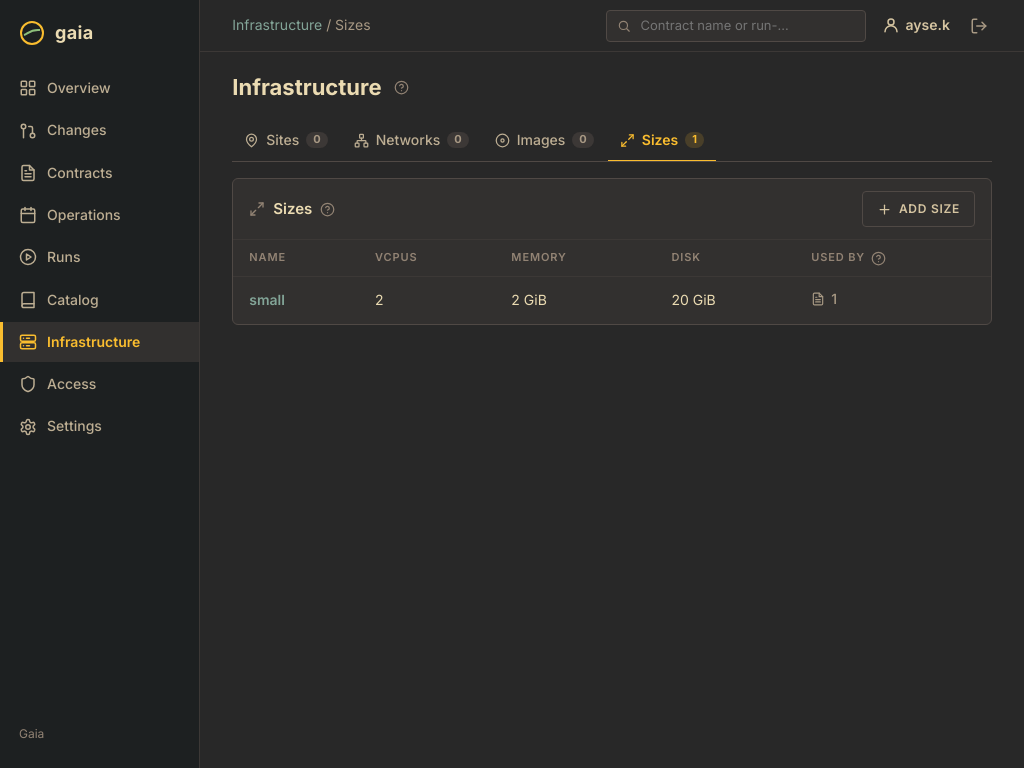
Test case: settings changes › shows why a change cannot be proposed
Click the button "Add Size".
click(918, 209)  # box [862,191,975,227]
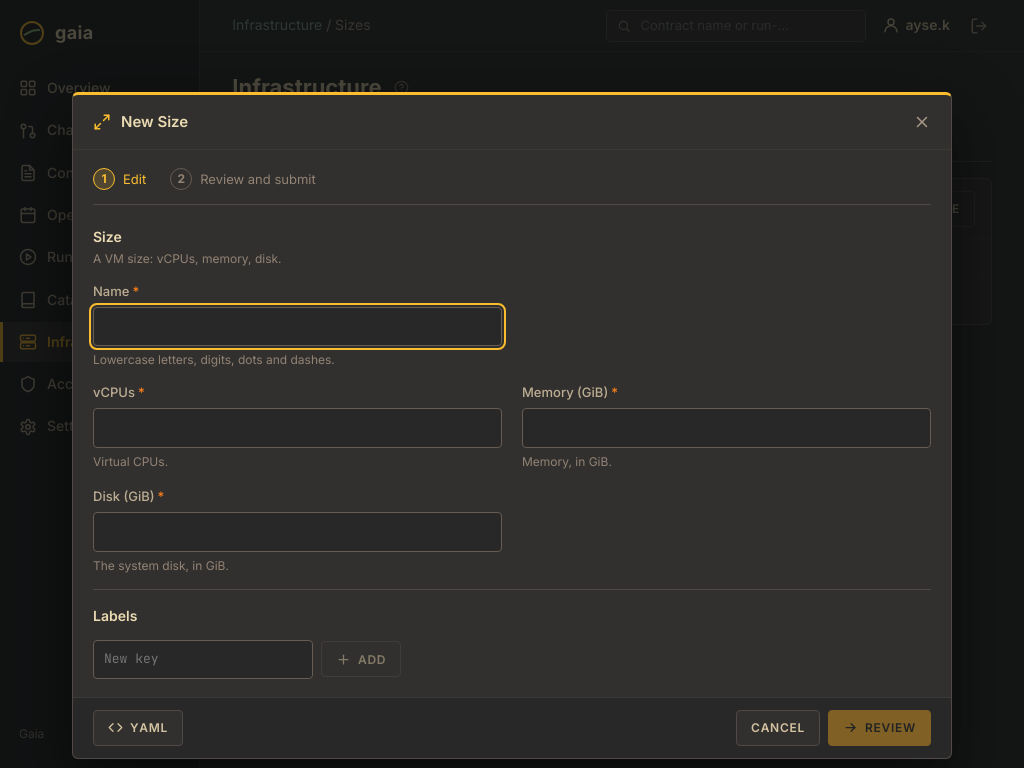
Type "tiny" into the field labelled "Name*".
click(298, 326); type("tiny")  # box [93,307,502,346]
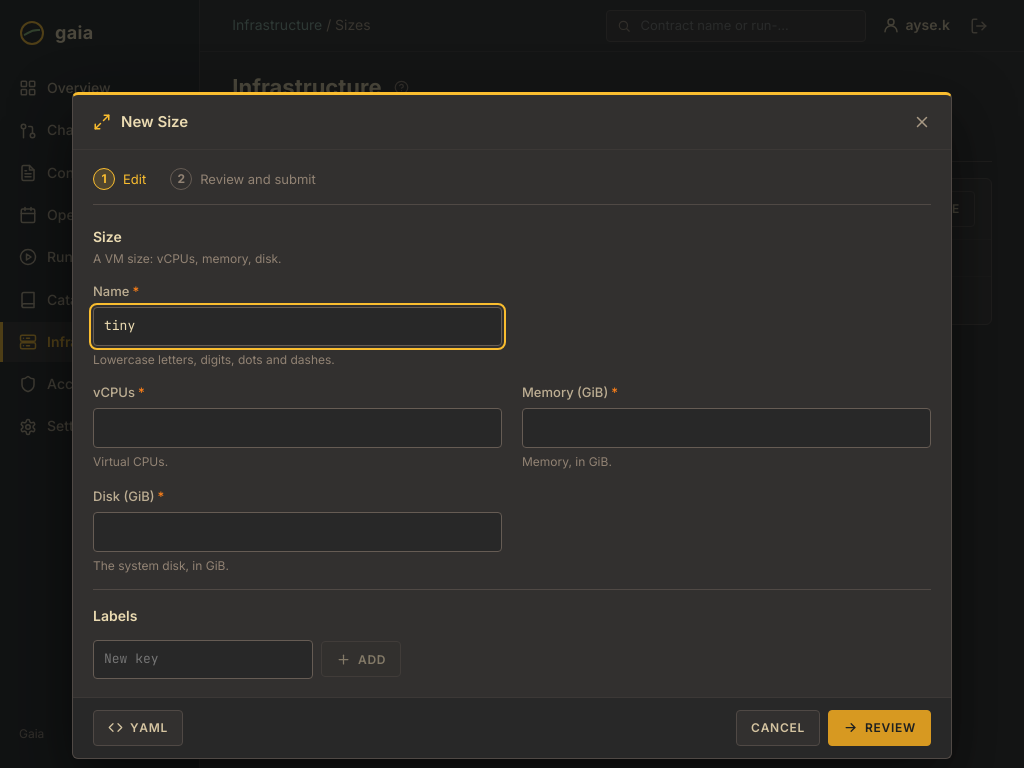
Click the button "Review".
click(880, 728)  # box [828,710,931,746]
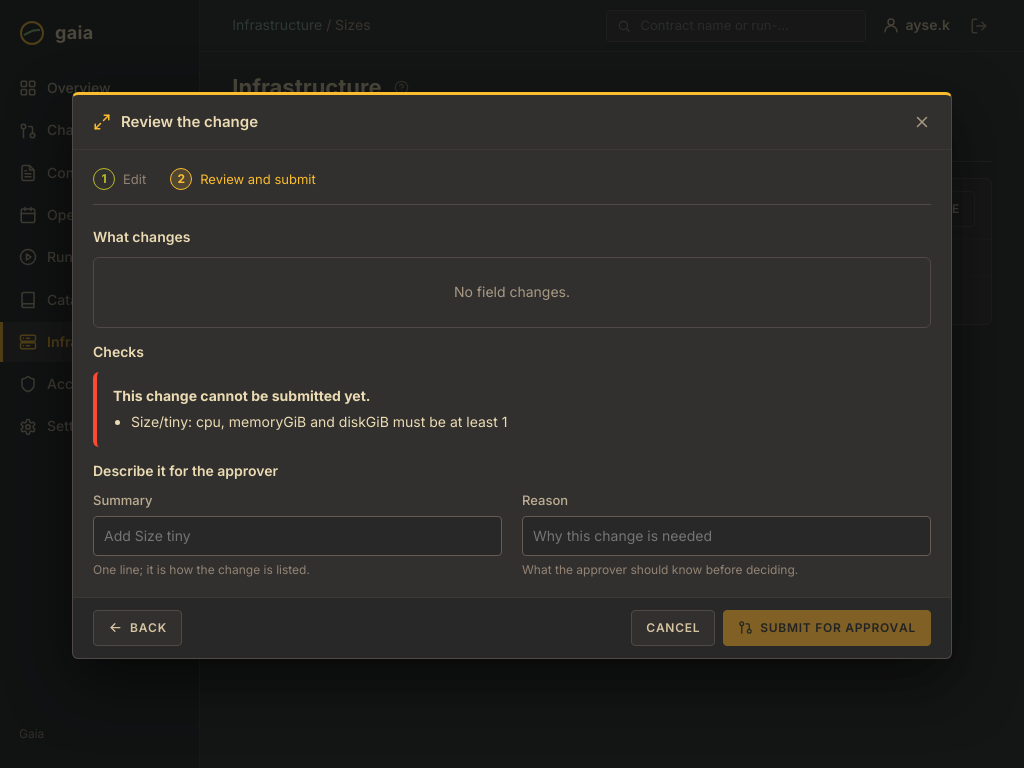
Now the list item "Size/tiny: cpu, memoryGiB and diskGiB must be at least 1" is shown, box [131,413,508,430]
Now the button "Submit for approval" is disabled, box [723,610,931,646]
